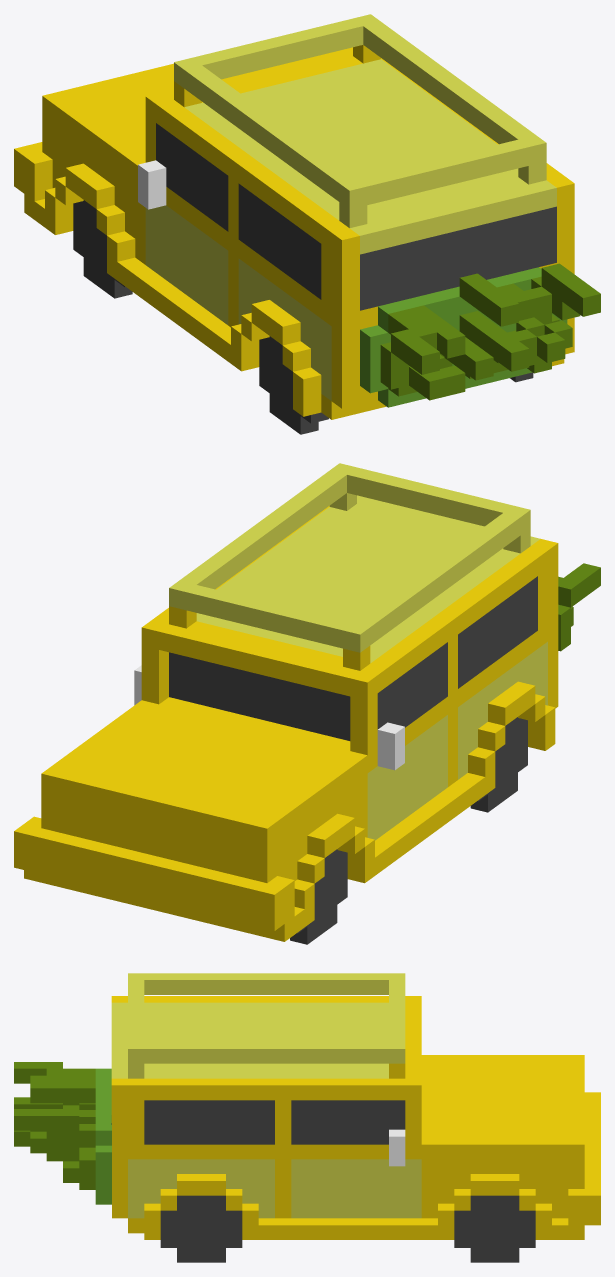
The model's file is car_07.glb.
3 views of the same model, one above another, from view 1: azimuth 30°, elevation 25°; view 2: azimuth 150°, elevation 25°; view 3: azimuth 270°, elevation 25° (orthographic). The views are drawn at different scales.
Visible parts, largest first — view 1: ObjObject; view 2: ObjObject; view 3: ObjObject.
Boxes of the visible parts, <box> form: ObjObject: <box>14,14,600,434</box>; ObjObject: <box>14,463,600,944</box>; ObjObject: <box>14,973,600,1262</box>.
Bounding box in the file's own units: 1.5 × 1.4 × 3.6.
Materials: 1 (1 with a texture image).
